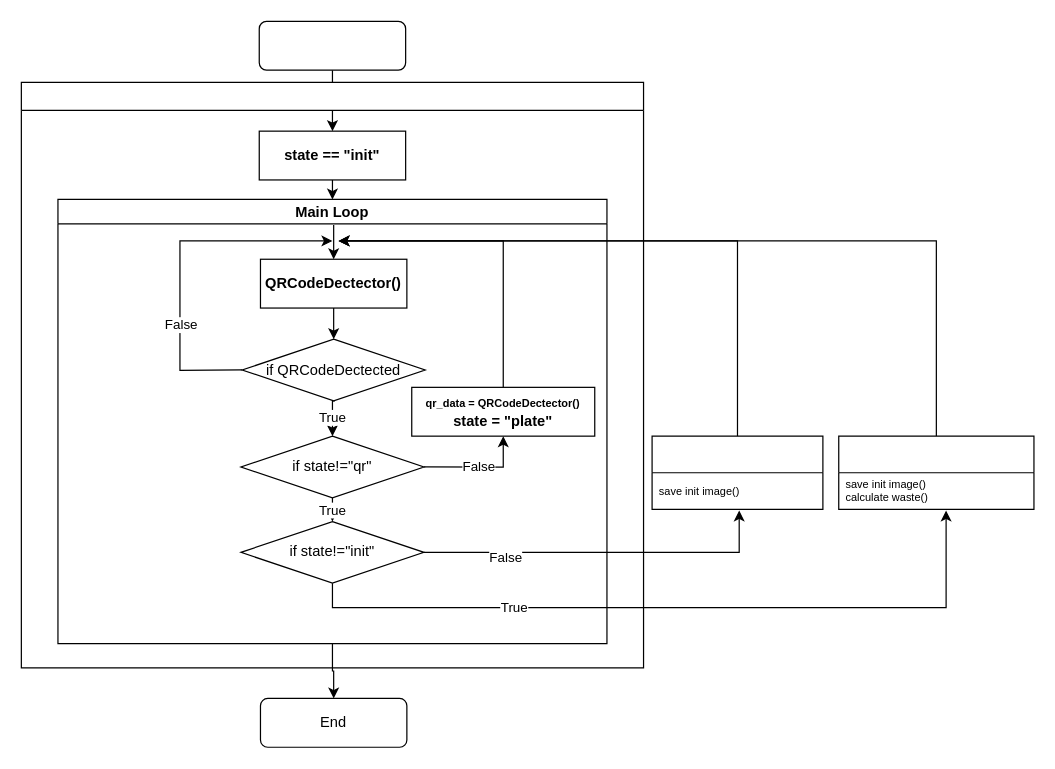
This 1055x769 diagram has some shape labels left out. The shapes that lost their labels are listed below. From the top down, each one's box as (x1, y1, x2, y2) in pixels, then its label:
(258, 20, 406, 70): Start
(20, 81, 644, 668): Main_process
(651, 435, 823, 509): Class init_process
(838, 435, 1034, 509): Class image_process
